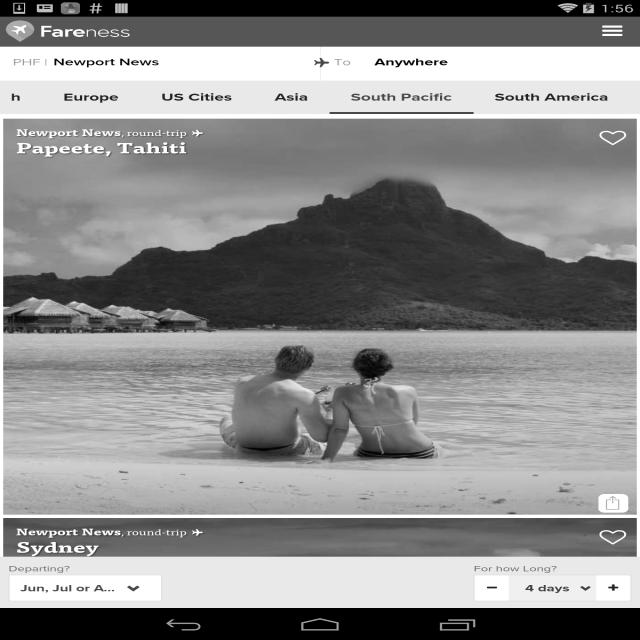Button: (589, 488, 637, 518)
EditText: (53, 54, 280, 68), (374, 54, 582, 68)
ImageView: (0, 17, 640, 608)
Spinner: (9, 574, 162, 602), (512, 575, 593, 602)
